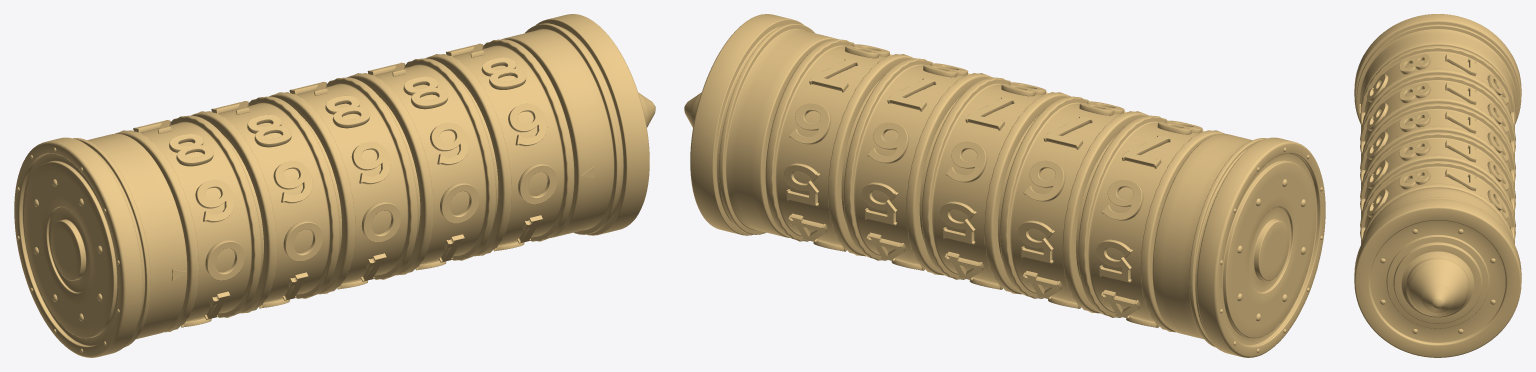
The model's file is cryptex.glb.
3 renders of one model, left to right at view 1: azimuth 30°, elevation 25°; view 2: azimuth 150°, elevation 25°; view 3: azimuth 270°, elevation 25°, orthographic. The views are drawn at different scales.
Parts seen in each view (by area): view 1: Body, Pull, Ring1, Ring4, Ring3, Ring2, Ring0; view 2: Body, Pull, Ring3, Ring4, Ring1, Ring2, Ring0; view 3: Pull, Body, Ring2, Ring1, Ring3, Ring0, Ring4.
Boxes of the visible parts, <box> form: Body: <box>14,79,498,357</box>; Pull: <box>502,14,655,237</box>; Ring1: <box>191,96,339,313</box>; Ring4: <box>426,39,574,256</box>; Ring3: <box>347,58,496,275</box>; Ring2: <box>269,77,417,294</box>; Ring0: <box>115,115,261,332</box>; Body: <box>841,79,1325,357</box>; Pull: <box>684,14,837,237</box>; Ring3: <box>843,58,992,275</box>; Ring4: <box>765,39,913,256</box>; Ring1: <box>1000,96,1148,313</box>; Ring2: <box>922,77,1070,294</box>; Ring0: <box>1078,115,1224,332</box>; Pull: <box>1354,188,1521,357</box>; Body: <box>1354,14,1521,124</box>; Ring2: <box>1360,103,1515,199</box>; Ring1: <box>1360,74,1515,170</box>; Ring3: <box>1360,132,1515,228</box>; Ring0: <box>1360,45,1515,141</box>; Ring4: <box>1360,160,1515,244</box>.
Size of the model in its own units: 3.32 by 1.08 by 1.08.
